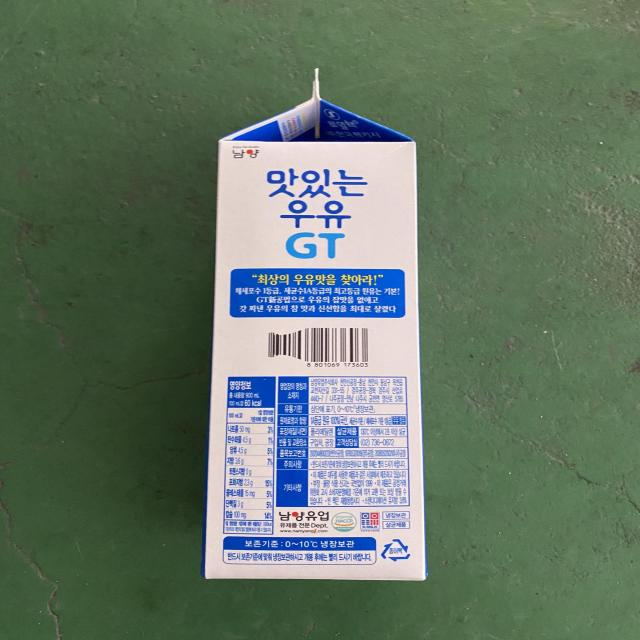paperpack: (203, 75, 427, 581)
